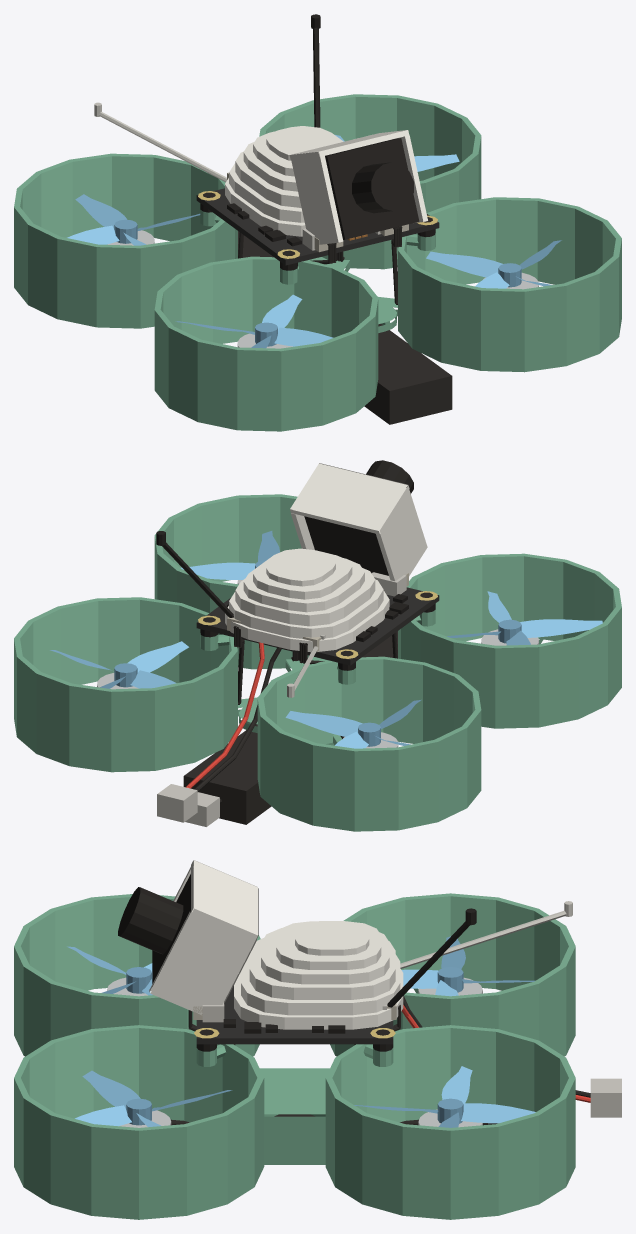
The model's file is whoop.glb.
3 views of the same model, one above another, from view 1: azimuth 30°, elevation 25°; view 2: azimuth 150°, elevation 25°; view 3: azimuth 270°, elevation 25° (orthographic). The views are drawn at different scales.
Visible parts, largest first — view 1: static, static.cover, prop:M4, prop:M2, prop:M1; view 2: static, static.cover, prop:M2, prop:M1, prop:M3, prop:M4; view 3: static, static.cover, prop:M3, prop:M4, prop:M1, prop:M2.
Boxes of the visible parts, bbox=[...] form: static: bbox=[14, 14, 621, 431]; static.cover: bbox=[225, 126, 427, 244]; prop:M4: bbox=[426, 240, 561, 288]; prop:M2: bbox=[175, 294, 333, 348]; prop:M1: bbox=[67, 194, 200, 245]; static: bbox=[14, 460, 621, 831]; static.cover: bbox=[225, 463, 427, 652]; prop:M2: bbox=[447, 591, 602, 645]; prop:M1: bbox=[285, 699, 421, 748]; prop:M3: bbox=[50, 641, 188, 688]; prop:M4: bbox=[181, 531, 279, 579]; static: bbox=[14, 874, 621, 1219]; static.cover: bbox=[149, 860, 403, 1029]; prop:M3: bbox=[354, 1066, 535, 1127]; prop:M4: bbox=[75, 1070, 232, 1126]; prop:M1: bbox=[401, 936, 535, 996]; prop:M2: bbox=[67, 946, 152, 995].
Size of the model in its own units: 0.0829 by 0.0448 by 0.0897.
